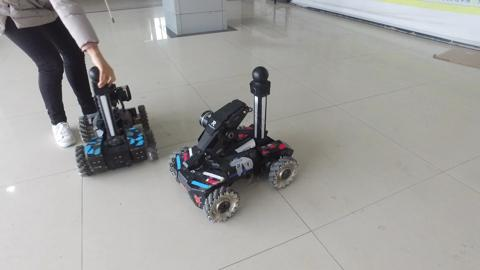chariot: (168, 60, 305, 229), (70, 60, 161, 181)
